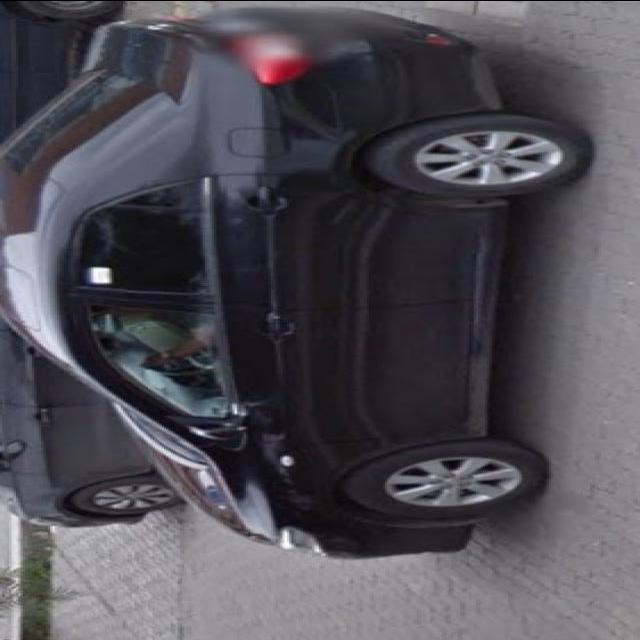car: (0, 0, 613, 563)
